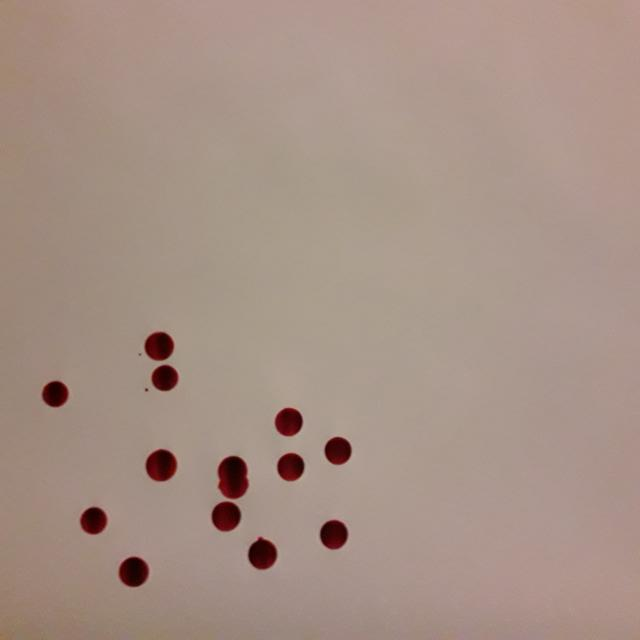wound: (300, 425, 377, 476), (302, 506, 368, 564), (140, 326, 188, 402), (264, 443, 324, 492), (236, 526, 289, 580), (263, 393, 313, 450), (212, 448, 259, 503), (134, 442, 184, 492), (200, 498, 253, 542), (110, 552, 161, 596), (64, 502, 122, 540), (26, 374, 83, 412)
